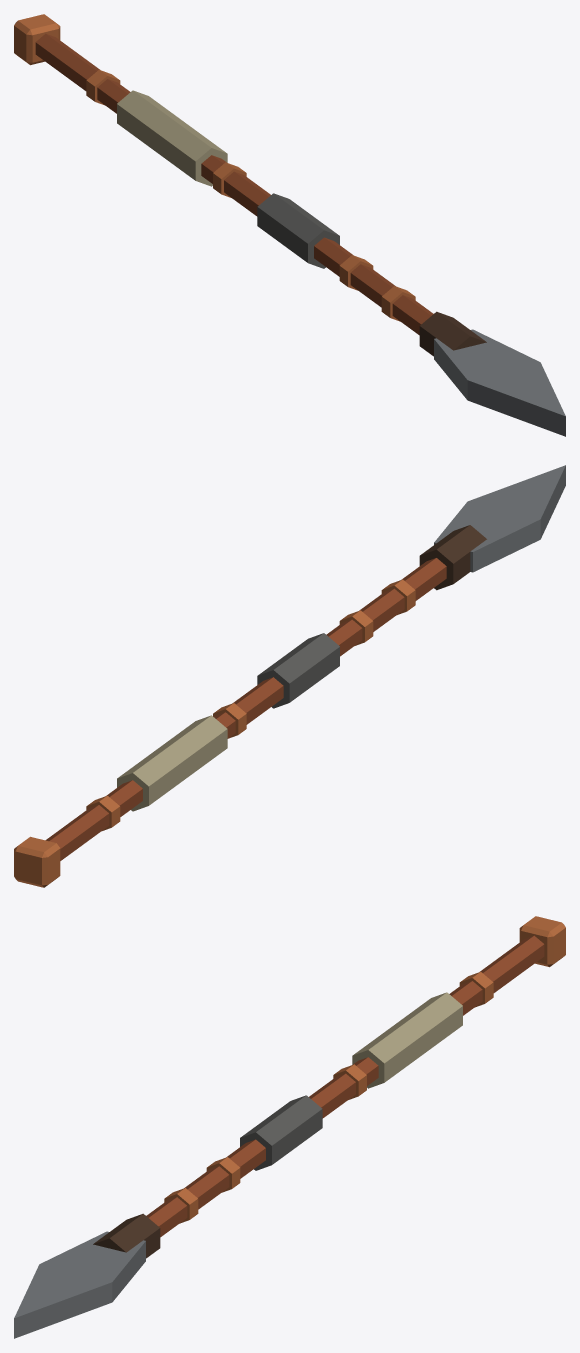
File: item_spear.glb
3 views of the same model, one above another, from view 1: azimuth 30°, elevation 25°; view 2: azimuth 150°, elevation 25°; view 3: azimuth 330°, elevation 25° (orthographic).
Parts seen in each view (by area): view 1: spear; view 2: spear; view 3: spear.
Boxes of the visible parts, <box> form: spear: <box>14,14,565,436</box>; spear: <box>14,465,565,887</box>; spear: <box>14,916,565,1338</box>.
Bounding box in the file's own units: 0.15 × 0.08 × 1.91.
